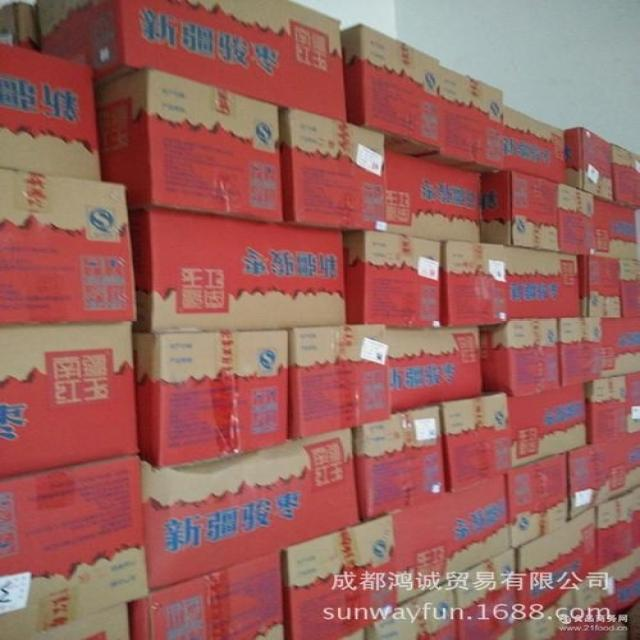box: (33, 0, 347, 122), (141, 427, 360, 591), (96, 67, 282, 224), (0, 455, 148, 639), (132, 208, 347, 334), (0, 323, 141, 479), (0, 166, 137, 325), (133, 329, 288, 468), (393, 475, 511, 605), (280, 515, 399, 640), (128, 549, 283, 640), (0, 44, 101, 182), (279, 107, 388, 232), (342, 24, 443, 156), (288, 325, 392, 441), (352, 405, 447, 521), (515, 509, 596, 623), (346, 230, 439, 329), (417, 66, 503, 173), (387, 150, 483, 243), (387, 326, 484, 414), (442, 390, 512, 495), (516, 574, 623, 640), (566, 431, 640, 519), (480, 318, 562, 397), (509, 382, 586, 466), (483, 169, 559, 252), (506, 452, 571, 548), (452, 549, 521, 639), (500, 245, 581, 319), (442, 241, 506, 327), (502, 104, 568, 183), (594, 488, 640, 573), (29, 602, 132, 639), (564, 126, 614, 202), (559, 318, 603, 387), (407, 581, 457, 640), (596, 548, 640, 615), (343, 602, 420, 640), (594, 198, 639, 259), (586, 376, 627, 442), (579, 255, 621, 318), (559, 182, 594, 256), (602, 318, 640, 378), (612, 142, 640, 207), (0, 3, 38, 50), (617, 258, 640, 318), (626, 372, 640, 434)
